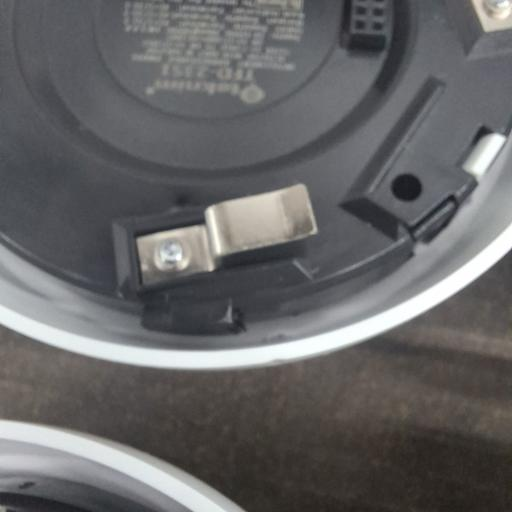yaysiz: (124, 183, 318, 289)
